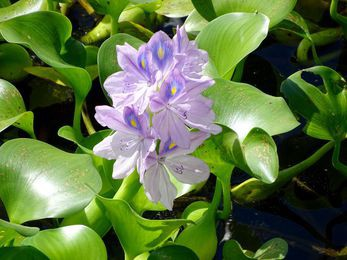water_hyacinth: (1, 1, 346, 258)
